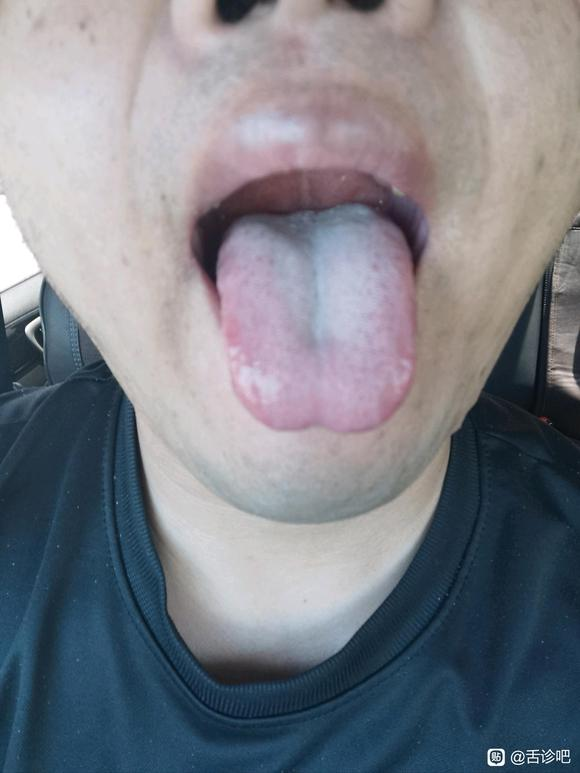baitaishe: (215, 202, 415, 433)
xinfeiao: (281, 404, 348, 434)
